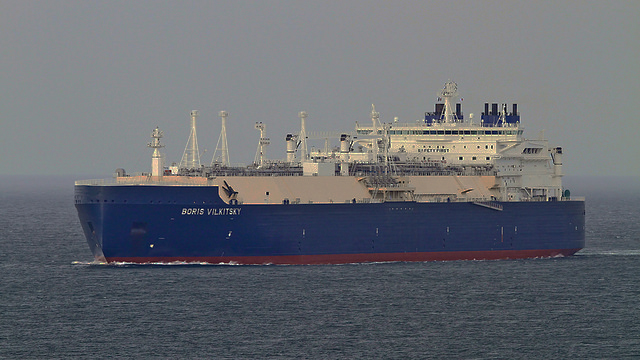LNG_ship: (73, 79, 587, 262)
